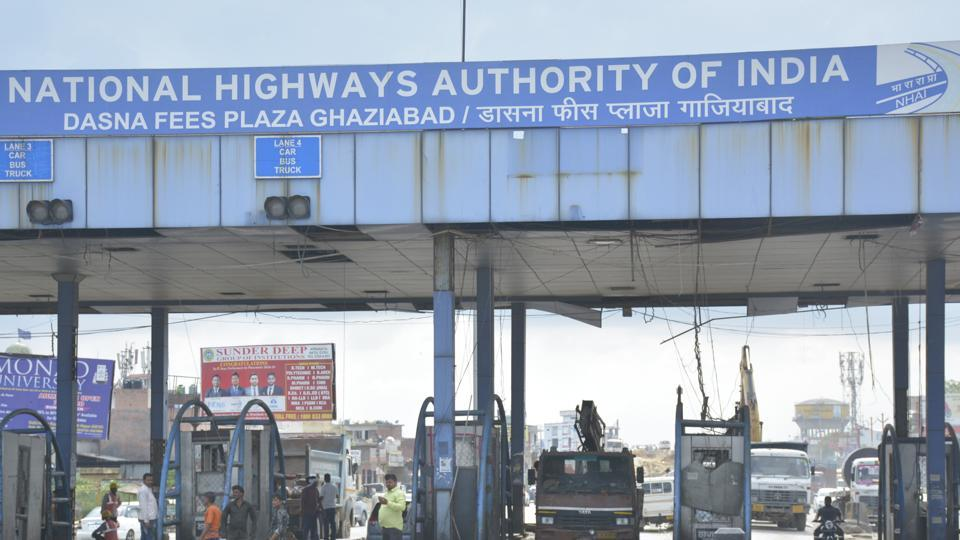toll plaza: (3, 50, 953, 540)
